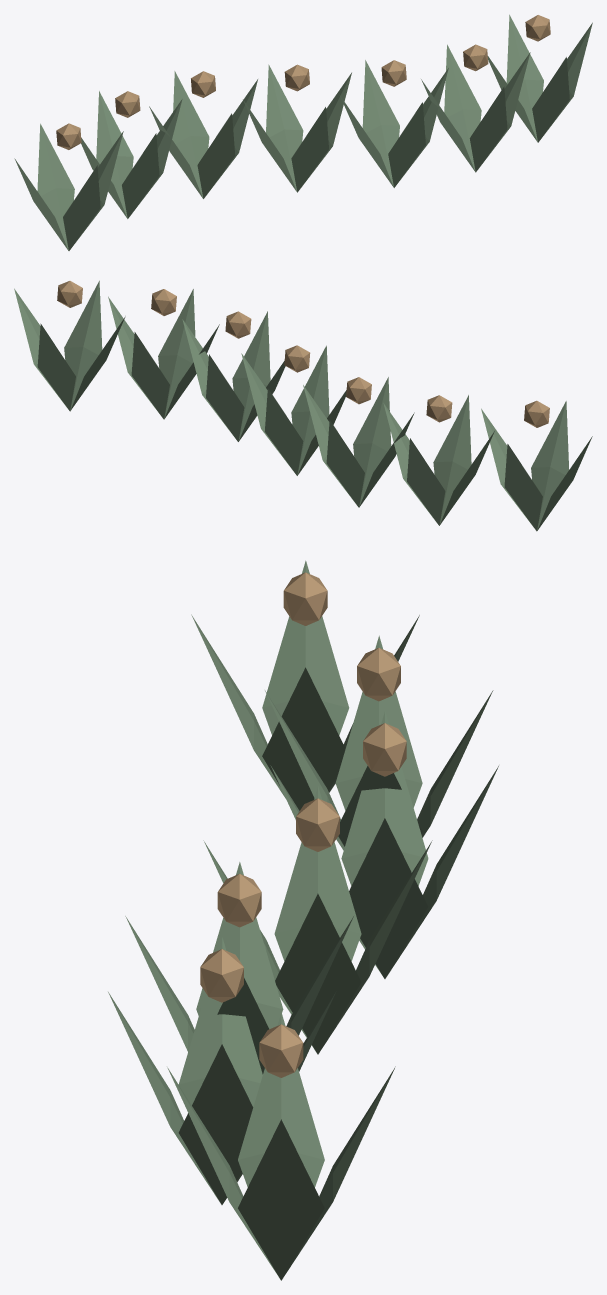
The model's file is map-exclusive-v3__ridge_16.glb.
3 renders of one model, top to bottom at view 1: azimuth 30°, elevation 25°; view 2: azimuth 150°, elevation 25°; view 3: azimuth 270°, elevation 25°, orthographic. The views are drawn at different scales.
Parts seen in each view (by area): view 1: ridge_16; view 2: ridge_16; view 3: ridge_16.
Part boxes in pixels (bbox=[...]): ridge_16: bbox=[14, 14, 592, 250]; ridge_16: bbox=[14, 280, 592, 531]; ridge_16: bbox=[108, 560, 498, 1280].
Size of the model in its own units: 3.34 by 0.715 by 0.991.
